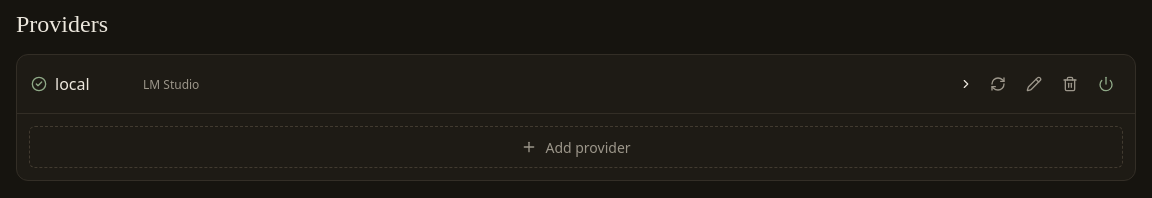
Test: checks provider health through the verification icon
The image size is (1152, 198).
Click the button named "Verify": (998, 84) [983,69,1013,99]
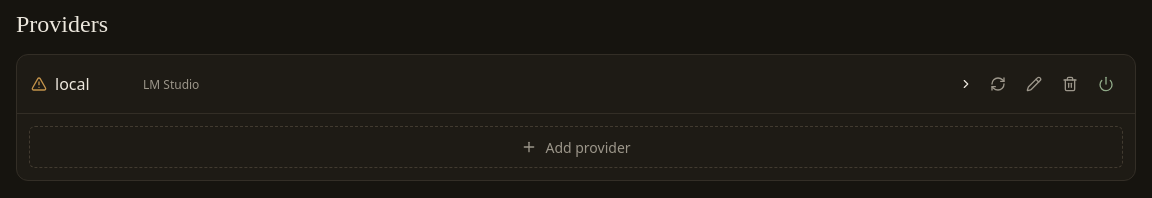
Result: the icon named "Degraded" is shown at [31,76,47,92]
